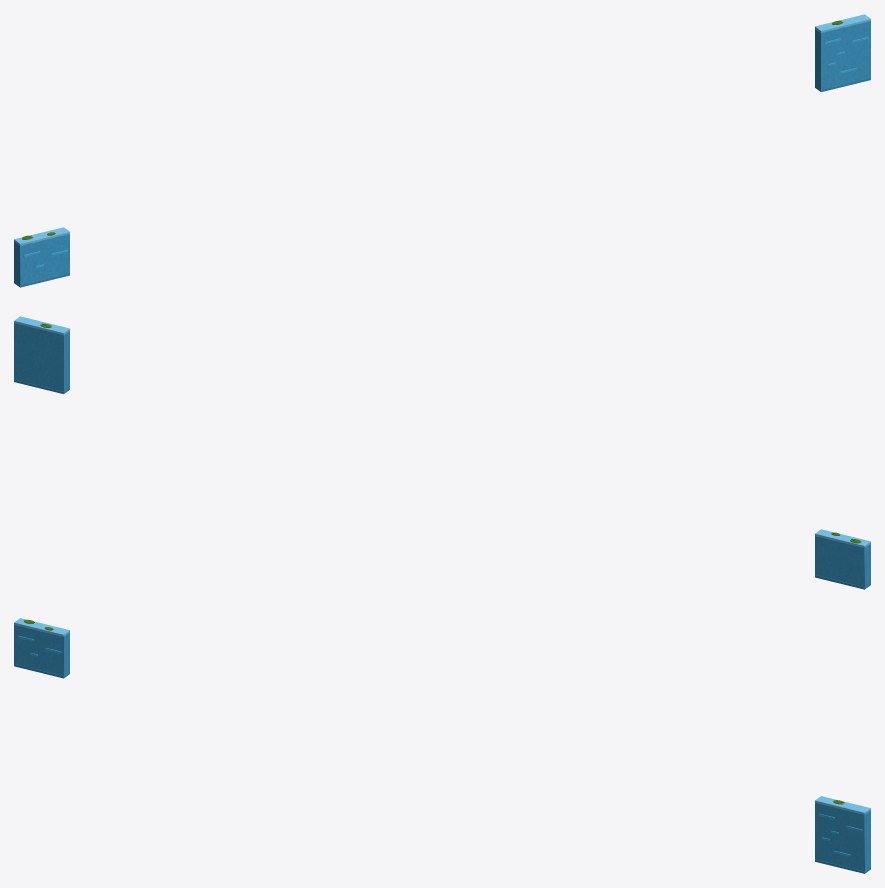
Rendered from water_level2.glb.
3 renders of one model, top to bottom at view 1: azimuth 30°, elevation 25°; view 2: azimuth 150°, elevation 25°; view 3: azimuth 330°, elevation 25°, orthographic.
Visible parts, largest first — view 1: water_L2_02, water_L2_01; view 2: water_L2_02, water_L2_01; view 3: water_L2_02, water_L2_01.
Boxes of the visible parts, bbox=[...] form: water_L2_02: bbox=[815, 14, 870, 91]; water_L2_01: bbox=[14, 227, 69, 287]; water_L2_02: bbox=[14, 316, 69, 393]; water_L2_01: bbox=[815, 529, 870, 589]; water_L2_02: bbox=[815, 796, 870, 873]; water_L2_01: bbox=[14, 618, 69, 678].
Size of the model in its own units: 61.19 by 4.26 by 0.8108.
Materials: 5 (5 with a texture image).
